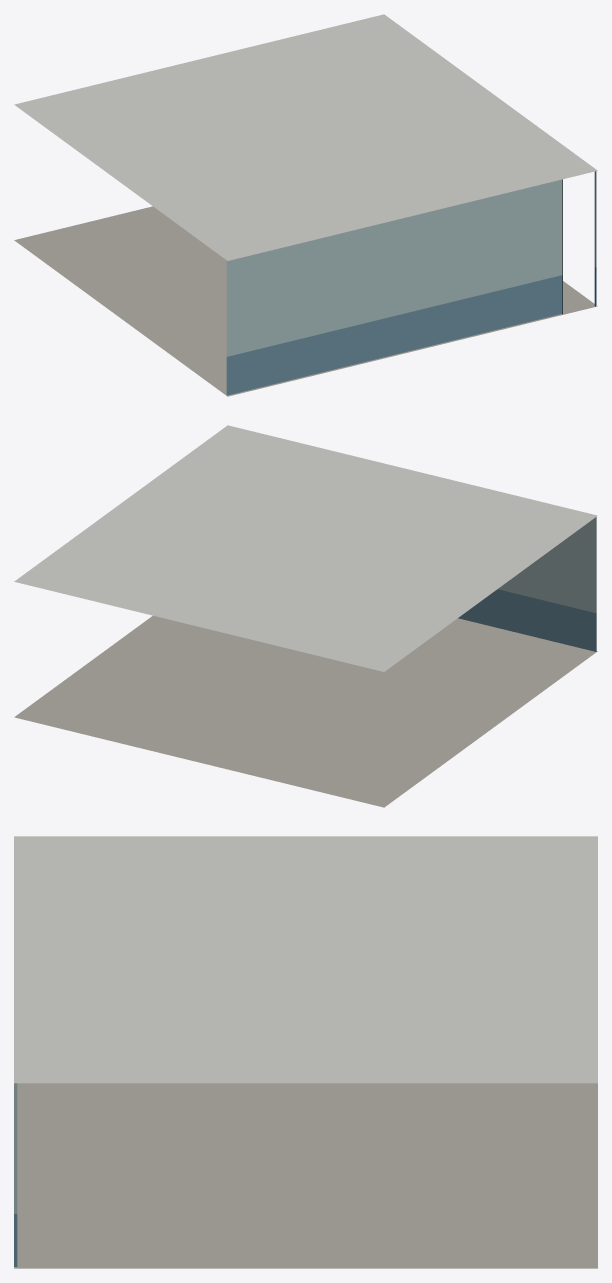
Rendered from chunk_3_2.glb.
3 views of the same model, one above another, from view 1: azimuth 30°, elevation 25°; view 2: azimuth 150°, elevation 25°; view 3: azimuth 270°, elevation 25° (orthographic). The views are drawn at different scales.
Parts seen in each view (by area): view 1: chunk_3_2; view 2: chunk_3_2; view 3: chunk_3_2.
Boxes of the visible parts, bbox=[...] form: chunk_3_2: bbox=[14, 14, 597, 396]; chunk_3_2: bbox=[14, 425, 597, 807]; chunk_3_2: bbox=[14, 836, 597, 1268].
Size of the model in its own units: 12 by 4.2 by 12.
